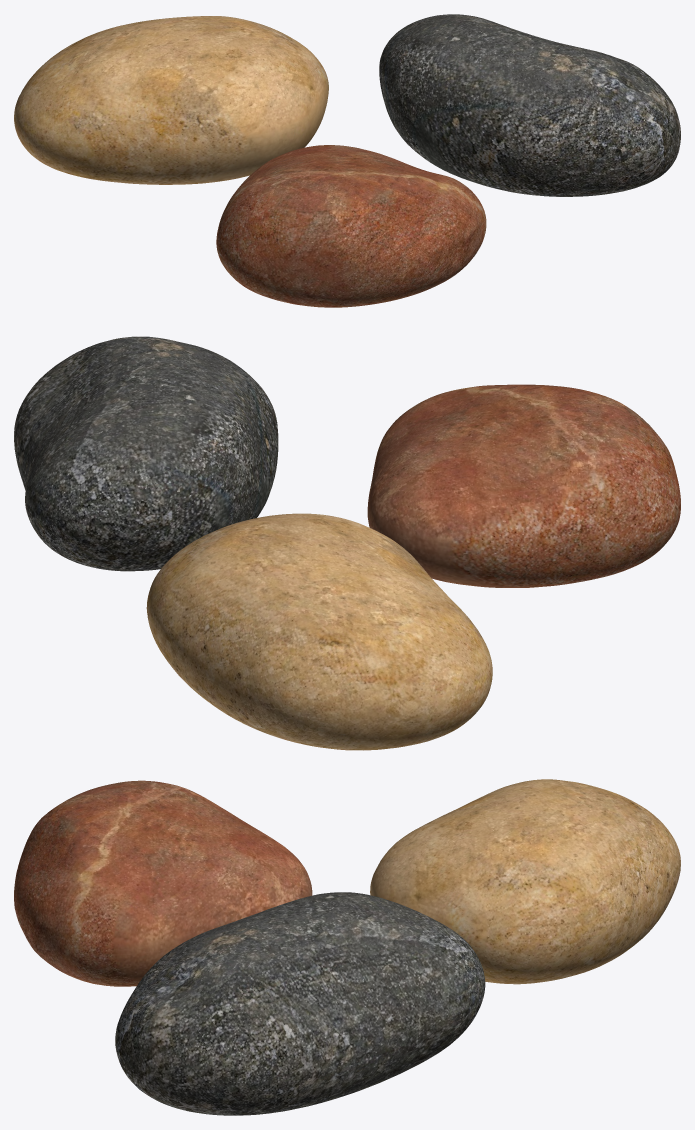
File: stone+rocks+3d+model.glb
3 views of the same model, one above another, from view 1: azimuth 30°, elevation 25°; view 2: azimuth 150°, elevation 25°; view 3: azimuth 270°, elevation 25° (orthographic). The views are drawn at different scales.
Parts seen in each view (by area): view 1: tripo_node_3c70e1b2-f517-4ff0-a827-04f095e64d69; view 2: tripo_node_3c70e1b2-f517-4ff0-a827-04f095e64d69; view 3: tripo_node_3c70e1b2-f517-4ff0-a827-04f095e64d69.
Boxes of the visible parts, left/top/right/bottom form: tripo_node_3c70e1b2-f517-4ff0-a827-04f095e64d69: left=14, top=14, right=680, bottom=307; tripo_node_3c70e1b2-f517-4ff0-a827-04f095e64d69: left=14, top=336, right=680, bottom=750; tripo_node_3c70e1b2-f517-4ff0-a827-04f095e64d69: left=14, top=779, right=680, bottom=1115.
Bounding box in the file's own units: 0.9985 × 0.2654 × 0.9997.
Materials: 1 (1 with a texture image).
